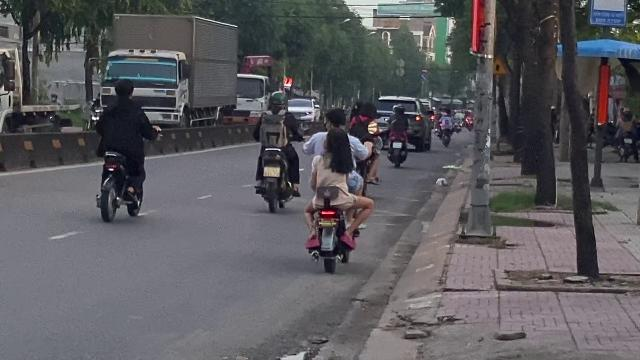helmet: (267, 90, 287, 110)
licenseplate: (264, 167, 280, 177)
motorcyclist: (301, 105, 377, 274), (91, 76, 155, 222), (250, 90, 302, 212)
nohelmet: (323, 128, 353, 160), (323, 107, 347, 131), (113, 77, 135, 99)
